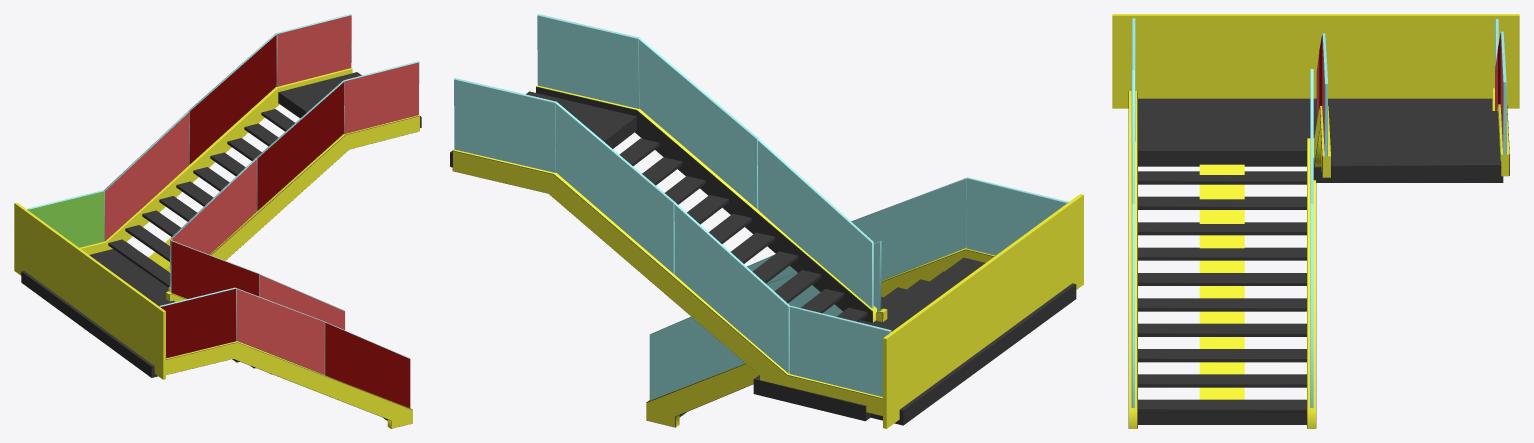
Rendered from escaleras_002.obj.
3 renders of one model, left to right at view 1: azimuth 30°, elevation 25°; view 2: azimuth 150°, elevation 25°; view 3: azimuth 270°, elevation 25°, orthographic. The views are drawn at different scales.
Visible parts, largest first — view 1: Box001, Cap_1_4, Cap_2_12, Cap_2_16, Cap_1_2, Cap_1_3, Cap_2_11, Cap_2_13, Cap_2_9, Cap_1, Cap_2_14, Cap_2_15 (+21 smaller); view 2: Box001, Cap_1_10, Cap_1_12, Cap_1_16, Cap_1_11, Cap_1_15, Cap_1_9, Cap_1_13, Cap_2_4, Cap_2_8, BasaSueloArriba, Cap_1_14 (+19 smaller); view 3: Box001, BasaSueloArriba, BasaSueloArriba_2, SoporteTrasero, Escalon200x27x18_0, Escalon200x27x18_1, Escalon200x27x18_2, Escalon200x27x18_3, Escalon200x27x18_4, Escalon200x27x18_6, Escalon200x27x18_7, Escalon200x27x18_8 (+13 smaller).
Boxes of the visible parts, bbox=[...] form: Box001: bbox=[14, 202, 165, 379]; Cap_1_4: bbox=[236, 289, 324, 374]; Cap_2_12: bbox=[189, 35, 276, 164]; Cap_2_16: bbox=[257, 82, 344, 210]; Cap_1_2: bbox=[166, 342, 412, 428]; Cap_1_3: bbox=[325, 322, 410, 408]; Cap_2_11: bbox=[105, 112, 189, 241]; Cap_2_13: bbox=[344, 62, 419, 133]; Cap_2_9: bbox=[277, 15, 351, 86]; Cap_1: bbox=[160, 288, 235, 358]; Cap_2_14: bbox=[211, 116, 419, 260]; Cap_2_15: bbox=[172, 160, 256, 254]; Box001: bbox=[883, 194, 1083, 428]; Cap_1_10: bbox=[453, 151, 882, 415]; Cap_1_12: bbox=[555, 104, 673, 273]; Cap_1_16: bbox=[639, 40, 756, 208]; Cap_1_11: bbox=[674, 205, 788, 373]; Cap_1_15: bbox=[758, 141, 871, 307]; Cap_1_9: bbox=[454, 79, 555, 172]; Cap_1_13: bbox=[537, 15, 638, 108]; Cap_2_4: bbox=[852, 179, 966, 280]; Cap_2_8: bbox=[789, 307, 889, 396]; BasaSueloArriba: bbox=[870, 257, 1076, 425]; Cap_1_14: bbox=[536, 87, 872, 322]; Box001: bbox=[1112, 14, 1519, 108]; BasaSueloArriba: bbox=[1138, 98, 1492, 166]; BasaSueloArriba_2: bbox=[1329, 111, 1501, 181]; SoporteTrasero: bbox=[1199, 164, 1244, 399]; Escalon200x27x18_0: bbox=[1138, 399, 1306, 412]; Escalon200x27x18_1: bbox=[1138, 374, 1306, 387]; Escalon200x27x18_2: bbox=[1138, 349, 1306, 362]; Escalon200x27x18_3: bbox=[1138, 323, 1306, 336]; Escalon200x27x18_4: bbox=[1138, 298, 1306, 311]; Escalon200x27x18_6: bbox=[1138, 247, 1306, 260]; Escalon200x27x18_7: bbox=[1138, 222, 1306, 235]; Escalon200x27x18_8: bbox=[1138, 196, 1306, 209].
Bounding box in the file's own units: 250 × 203 × 188.
Materials: 6 (3 with a texture image).
